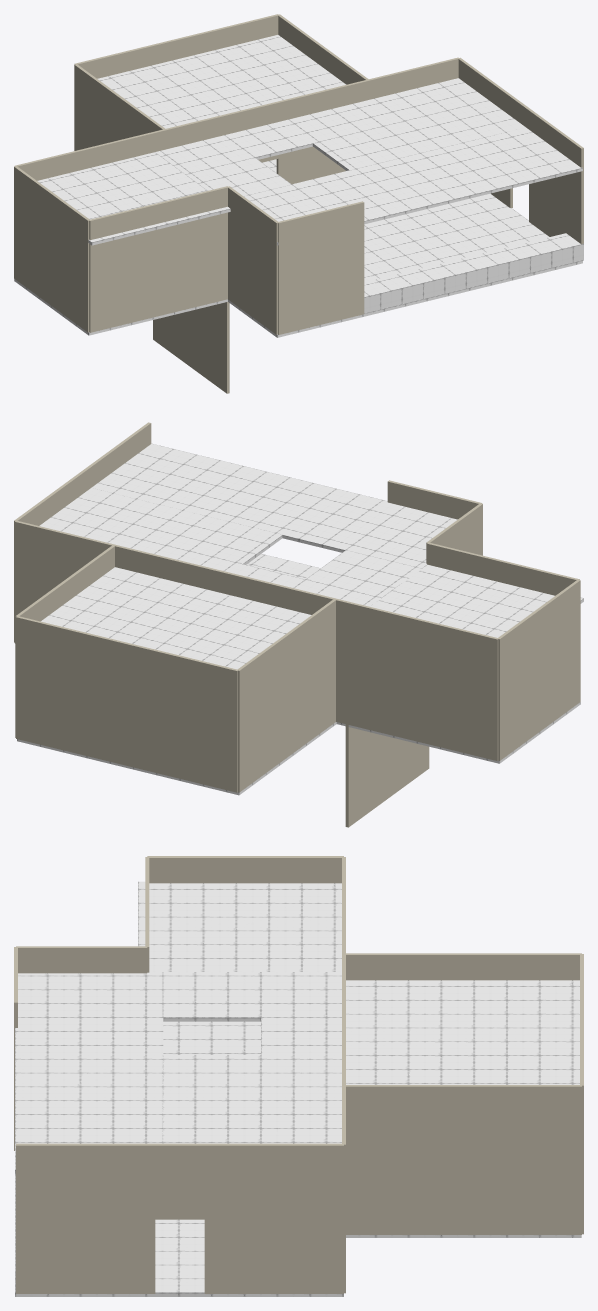
File: Shop.fbx
3 views of the same model, one above another, from view 1: azimuth 30°, elevation 25°; view 2: azimuth 150°, elevation 25°; view 3: azimuth 270°, elevation 25° (orthographic). The views are drawn at different scales.
Parts seen in each view (by area): view 1: Cube__6_, Cube__1_, Cube__3_, Wall__24_, Cube__7_, Wall__10_, Wall__7_, Cube__2_, Cube_1, Cube, Wall__13_, Wall__8_ (+21 smaller); view 2: Cube__6_, Cube__1_, Wall__6_, Wall__16_, Wall__17_, Wall__20_, Wall__11_, Cube, Cube__2_, Wall__15_, Wall__8_, Wall__9_ (+21 smaller); view 3: Cube__6_, Cube__1_, Wall__12_, Wall__18_, Cube__2_, Wall, Wall__19_, Cube__7_, wall_door, Cube, Cube__8_, Cube__3_ (+7 smaller).
Part boxes in pixels (<box>): Cube__6_: <box>244,127,582,245</box>; Cube__1_: <box>97,35,346,128</box>; Cube__3_: <box>228,193,582,337</box>; Wall__24_: <box>278,201,364,334</box>; Cube__7_: <box>155,78,488,174</box>; Wall__10_: <box>89,199,175,332</box>; Wall__7_: <box>142,186,228,319</box>; Cube__2_: <box>37,152,230,245</box>; Cube_1: <box>364,233,583,313</box>; Cube: <box>313,100,525,170</box>; Wall__13_: <box>228,186,278,334</box>; Wall__8_: <box>14,166,65,313</box>; Cube__6_: <box>91,443,457,568</box>; Cube__1_: <box>41,567,311,669</box>; Wall__6_: <box>346,601,440,746</box>; Wall__16_: <box>144,647,237,792</box>; Wall__17_: <box>16,616,110,761</box>; Wall__20_: <box>80,632,173,776</box>; Wall__11_: <box>404,616,498,760</box>; Cube: <box>51,488,282,564</box>; Cube__2_: <box>370,564,583,637</box>; Wall__15_: <box>237,631,293,792</box>; Wall__8_: <box>497,599,553,760</box>; Wall__9_: <box>524,579,580,740</box>; Cube__6_: <box>15,972,163,1174</box>; Cube__1_: <box>346,980,579,1084</box>; Wall__12_: <box>16,1143,147,1293</box>; Wall__18_: <box>344,1085,475,1234</box>; Cube__2_: <box>138,881,341,971</box>; Wall: <box>213,1143,343,1293</box>; Wall__19_: <box>452,1085,581,1234</box>; Cube__7_: <box>261,972,341,1143</box>; wall_door: <box>114,1143,245,1293</box>; Cube: <box>162,1055,261,1143</box>; Cube__8_: <box>162,972,261,1021</box>; Cube__3_: <box>15,1174,343,1296</box>.
Size of the model in its own units: 2087 by 924 by 1737.
Materials: 3 (3 with a texture image).
